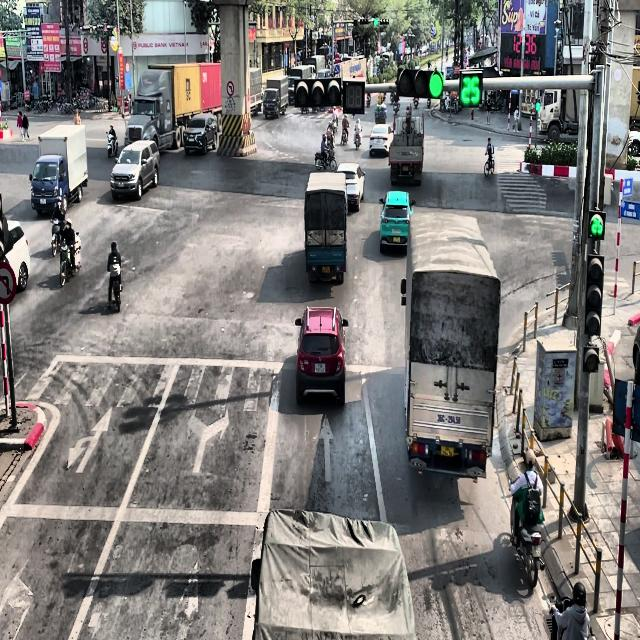lisence_plate: (437, 411, 462, 428), (440, 442, 455, 458), (314, 361, 326, 374), (319, 264, 332, 276), (392, 236, 401, 244), (402, 151, 412, 156), (403, 165, 409, 172), (376, 138, 381, 144)
